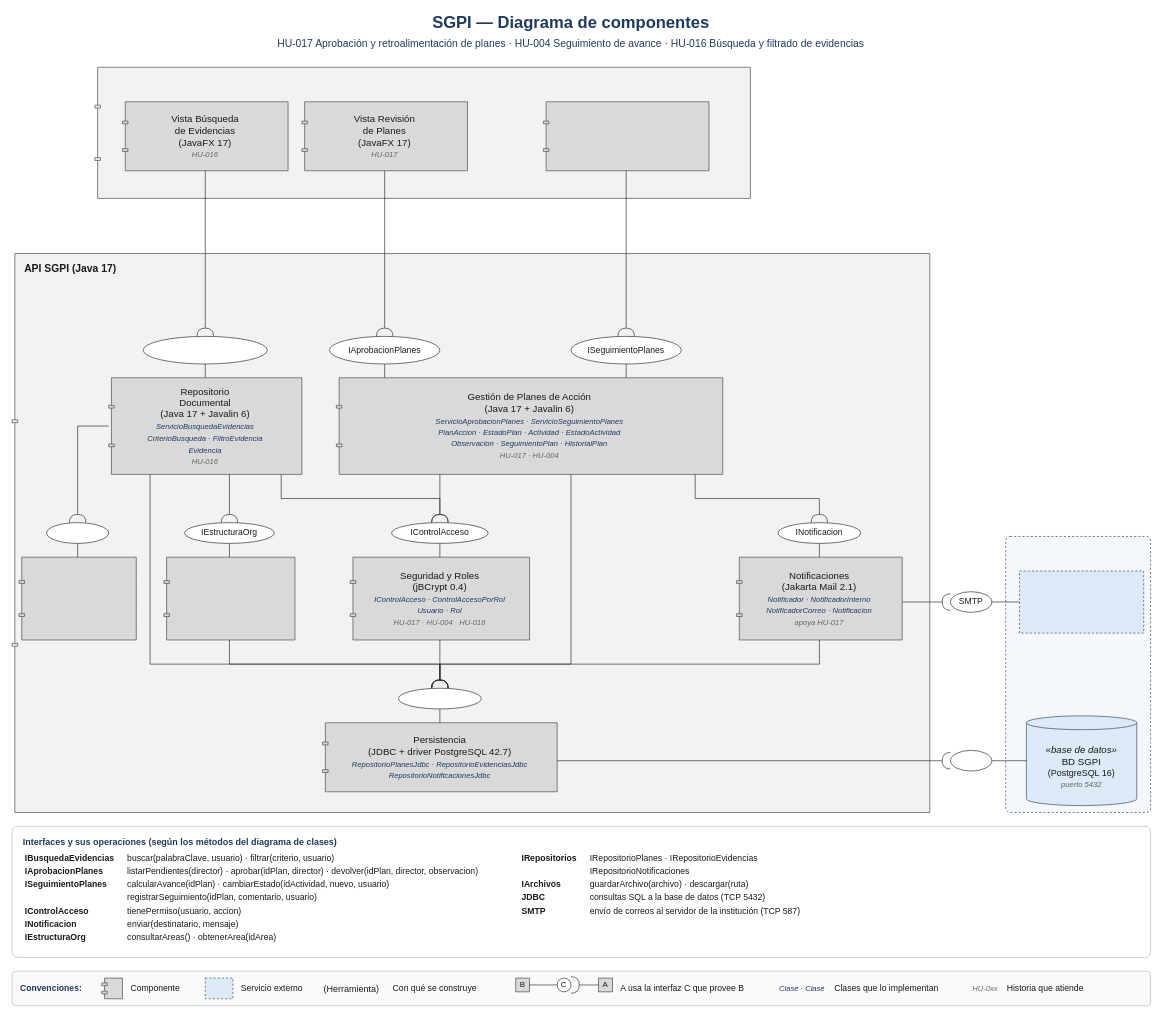
The diagram is 1163 pixels wide and 1018 high, and some of its shapes have lost their labels. Here are the shapes that lost their labels. From the top down, the box of each, then its label:
(94, 67, 750, 198): Cliente SGPI (JavaFX 17)
(543, 101, 709, 171): Vista Seguimiento de Planes (JavaFX 17) HU-004
(142, 336, 267, 364): IBusquedaEvidencias
(46, 522, 109, 543): IArchivos
(18, 556, 136, 640): Gestor de Archivos (java.nio.file) apoya HU-016
(163, 556, 295, 640): Estructura Organizacional (Java 17) Area apoya HU-016
(1019, 570, 1144, 633): «servicio externo» Servidor de correo (SMTP institucional) puerto 587
(1005, 536, 1151, 812): Servicios externos
(398, 688, 481, 709): IRepositorios
(950, 750, 992, 771): JDBC
